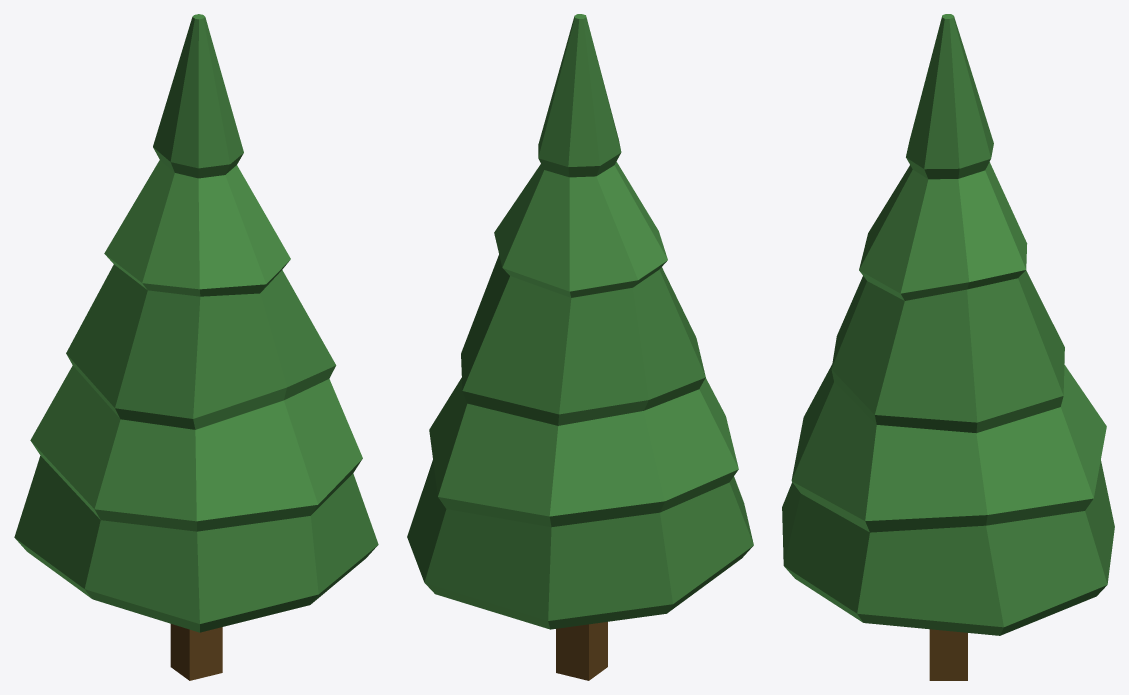
The model's file is tree_pine_big_1.fbx.
3 views of the same model, side by side, from view 1: azimuth 30°, elevation 25°; view 2: azimuth 150°, elevation 25°; view 3: azimuth 270°, elevation 25° (orthographic).
Visible parts, largest first — view 1: pCube292; view 2: pCube292; view 3: pCube292.
Boxes of the visible parts, x1=… form: pCube292: x1=14, y1=14, x2=378, y2=680; pCube292: x1=407, y1=14, x2=753, y2=680; pCube292: x1=782, y1=14, x2=1114, y2=680.
Bounding box in the file's own units: 4.81 × 10.35 × 4.75.
